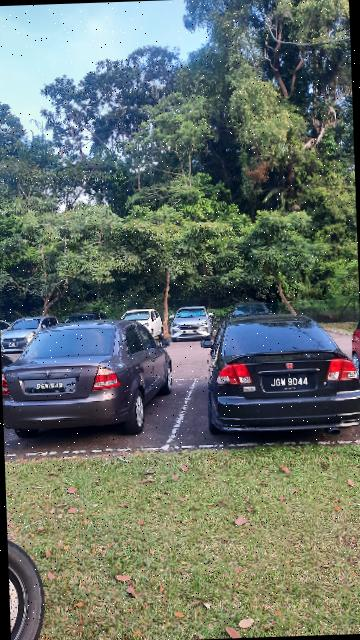License_Plate: (263, 370, 320, 393), (26, 377, 79, 396)
car: (193, 311, 360, 443), (1, 318, 177, 443)
